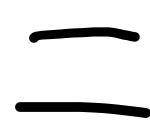eqv: (15, 27, 150, 118)
